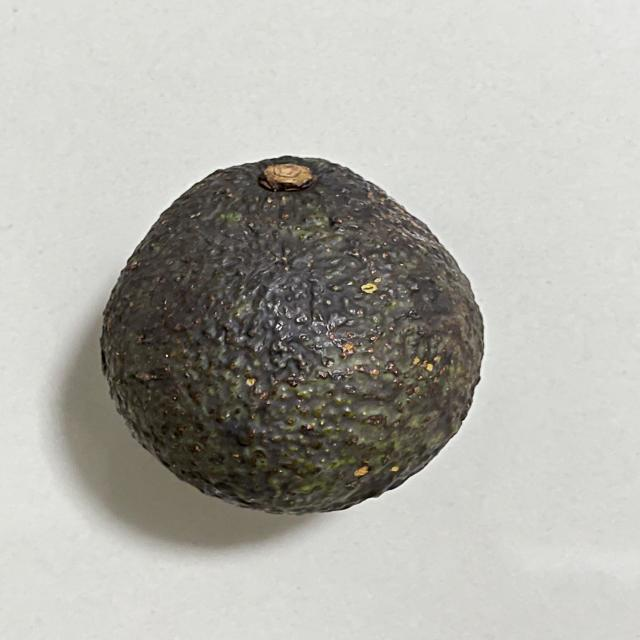Level1: (93, 145, 495, 524)
